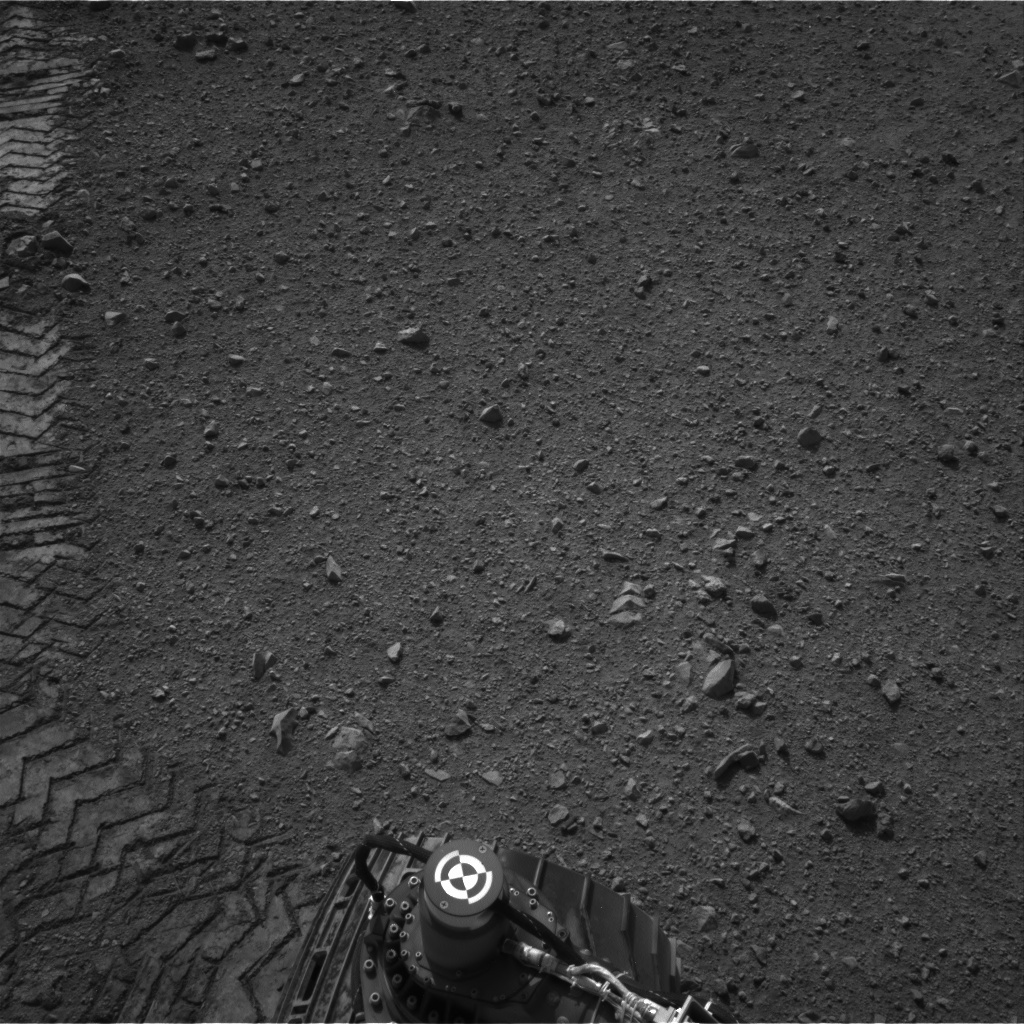soil: (7, 10, 1014, 1017)
